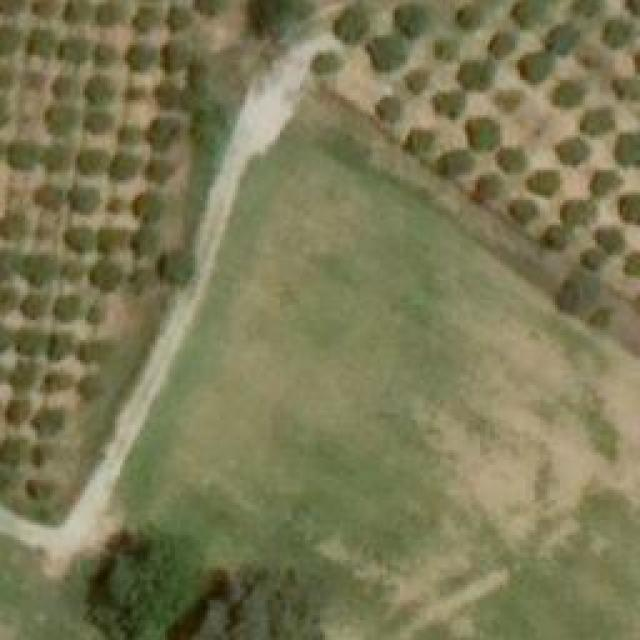Tree: (78, 518, 198, 638), (192, 567, 332, 640), (245, 0, 317, 41), (550, 265, 599, 311), (0, 433, 40, 468), (365, 35, 405, 70), (453, 60, 496, 90), (157, 253, 195, 286), (395, 0, 430, 35), (430, 90, 465, 123), (27, 405, 65, 435), (435, 150, 475, 178), (335, 8, 368, 41), (22, 475, 60, 503), (465, 118, 500, 148), (133, 193, 166, 223), (85, 260, 115, 293), (545, 25, 578, 55), (405, 130, 435, 163), (125, 42, 160, 70), (85, 75, 118, 103), (30, 185, 63, 213), (3, 212, 36, 240), (513, 0, 546, 28), (10, 360, 40, 390), (600, 18, 630, 48), (580, 108, 610, 138), (63, 37, 93, 65), (68, 185, 98, 213), (555, 138, 583, 168), (518, 55, 548, 83), (470, 172, 500, 200), (163, 40, 188, 73), (528, 170, 561, 195), (45, 332, 73, 360), (45, 107, 73, 135), (150, 120, 178, 148), (65, 225, 93, 253), (97, 225, 125, 253), (612, 75, 640, 103), (45, 368, 70, 398), (15, 293, 45, 318), (30, 28, 55, 58), (105, 155, 135, 180), (23, 258, 53, 283), (615, 133, 640, 163), (560, 203, 590, 228), (505, 200, 535, 225), (60, 0, 88, 25), (50, 295, 78, 320), (10, 140, 38, 165), (77, 340, 105, 365), (455, 2, 480, 30), (497, 148, 525, 173), (537, 225, 565, 250), (113, 125, 143, 148), (133, 230, 156, 260), (308, 55, 338, 78), (198, 0, 231, 20), (553, 85, 586, 105), (130, 10, 158, 33), (372, 98, 400, 121), (95, 3, 120, 28), (3, 400, 28, 425), (15, 328, 40, 353), (155, 80, 180, 105), (123, 265, 148, 290), (495, 88, 520, 113), (53, 78, 78, 101), (85, 110, 110, 133), (78, 150, 103, 173), (145, 158, 170, 181), (593, 170, 616, 195), (435, 38, 460, 61), (403, 68, 426, 93), (490, 33, 513, 56), (578, 248, 601, 271), (593, 308, 616, 330), (572, 0, 600, 18), (622, 250, 640, 278), (23, 68, 46, 88), (95, 43, 115, 66), (45, 145, 65, 168), (617, 197, 640, 217), (598, 230, 621, 250), (28, 0, 53, 18), (80, 375, 98, 400), (0, 65, 18, 88), (85, 303, 105, 323), (0, 253, 15, 278), (0, 0, 22, 17), (127, 85, 145, 105), (167, 10, 185, 30), (0, 28, 15, 51), (625, 0, 640, 22), (62, 260, 80, 278), (105, 197, 123, 215)
